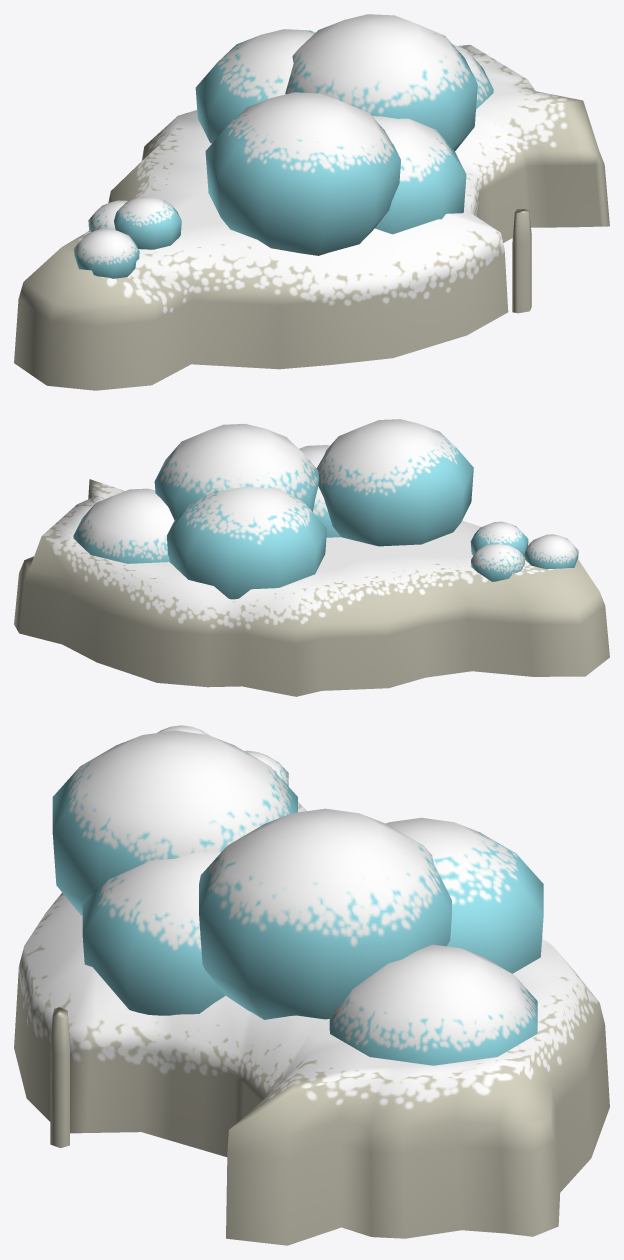
File: Ile Nord Ouest.fbx
The picture shows the model from 3 angles, top to bottom: view 1: azimuth 30°, elevation 25°; view 2: azimuth 150°, elevation 25°; view 3: azimuth 270°, elevation 25°; orthographic projection. The views are drawn at different scales.
Parts seen in each view (by area): view 1: Ile_Nord_Ouest; view 2: Ile_Nord_Ouest; view 3: Ile_Nord_Ouest.
Boxes of the visible parts, <box> form: Ile_Nord_Ouest: <box>14,14,609,390</box>; Ile_Nord_Ouest: <box>14,419,609,696</box>; Ile_Nord_Ouest: <box>14,725,609,1245</box>.
Size of the model in its own units: 151 by 53 by 99.05.
Materials: 1 (1 with a texture image).
